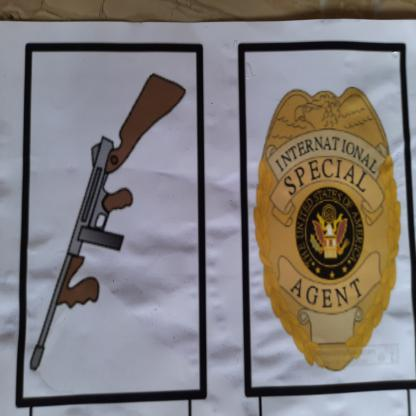Bootlegger: (28, 66, 194, 384)
G-man: (247, 82, 411, 379)
